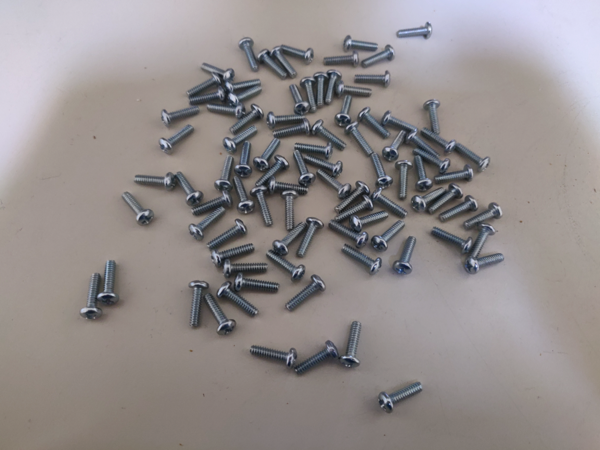shortscrew: (295, 340, 339, 376), (286, 275, 326, 313), (379, 382, 425, 414), (217, 282, 259, 317), (203, 293, 236, 336), (334, 179, 371, 216), (341, 245, 383, 277), (189, 206, 225, 242), (266, 250, 307, 281), (207, 219, 248, 250), (272, 222, 308, 256), (249, 344, 297, 369), (371, 188, 409, 219), (310, 120, 348, 151), (229, 103, 264, 136), (191, 190, 233, 217), (432, 228, 474, 255), (297, 217, 324, 259), (316, 170, 353, 200), (80, 273, 103, 321), (256, 155, 290, 187), (122, 191, 153, 226), (159, 125, 194, 156), (454, 143, 490, 173), (372, 220, 406, 251), (440, 195, 479, 222), (335, 194, 374, 221), (428, 184, 463, 214), (346, 122, 375, 158), (223, 126, 259, 155), (97, 260, 119, 307), (257, 49, 289, 81), (465, 202, 504, 228), (412, 149, 451, 175), (211, 244, 255, 267), (175, 171, 203, 207), (253, 137, 281, 173), (357, 108, 391, 137), (406, 130, 441, 158), (340, 322, 361, 368), (234, 272, 280, 293), (190, 280, 209, 330), (251, 186, 273, 228), (233, 175, 256, 215), (393, 237, 417, 275), (270, 46, 298, 78), (267, 176, 309, 197), (349, 211, 389, 233), (187, 73, 222, 98), (371, 152, 394, 190), (360, 45, 396, 69), (382, 111, 418, 135), (303, 156, 344, 177), (423, 130, 456, 156), (472, 224, 497, 258), (161, 105, 201, 126), (412, 188, 447, 212), (464, 255, 505, 275), (295, 150, 317, 187), (435, 164, 475, 184), (280, 190, 299, 232), (224, 259, 267, 277), (383, 130, 407, 162), (228, 86, 264, 107), (133, 173, 177, 190), (215, 156, 235, 193), (395, 160, 413, 201), (239, 38, 260, 73), (335, 80, 373, 99), (206, 102, 246, 120), (274, 118, 311, 137), (267, 111, 306, 129), (200, 63, 235, 83), (290, 84, 311, 116), (279, 45, 314, 64), (415, 156, 434, 191), (324, 70, 343, 105), (295, 141, 334, 158), (300, 77, 318, 113), (235, 142, 253, 178), (424, 100, 442, 135), (324, 51, 359, 68), (355, 71, 392, 87), (225, 79, 262, 95), (313, 71, 329, 108), (398, 23, 432, 40), (335, 95, 353, 127), (343, 36, 379, 52)
